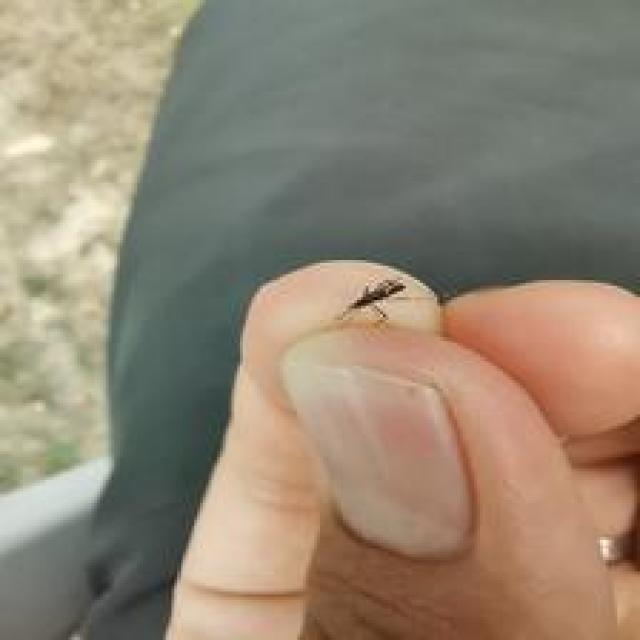Aedes albopictus: (336, 276, 407, 327)
